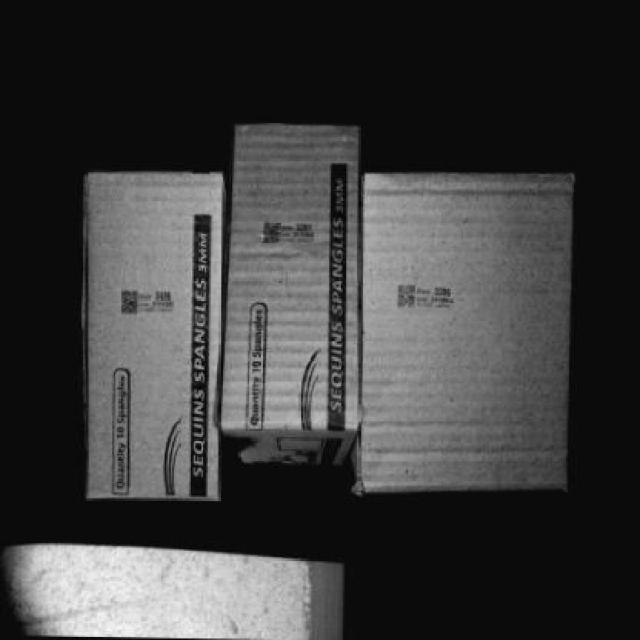box: (358, 176, 568, 489), (79, 172, 227, 498), (232, 126, 362, 434)
